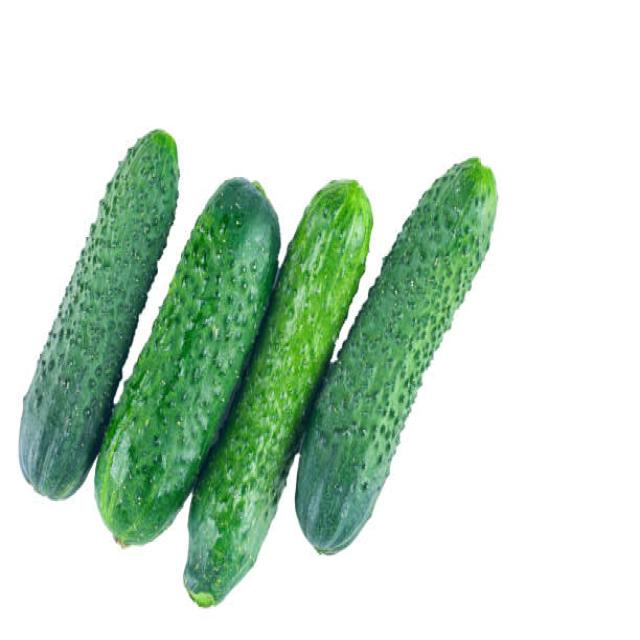cucumber: (293, 156, 499, 554), (182, 176, 371, 606), (94, 172, 280, 546), (17, 129, 180, 502)
